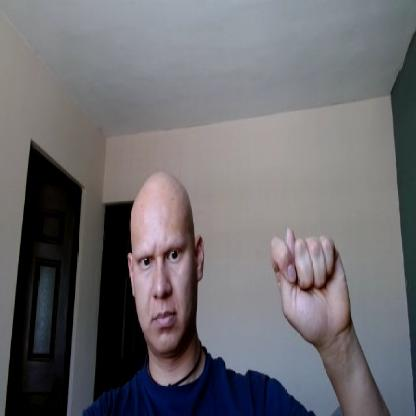T: (271, 225, 352, 340)
